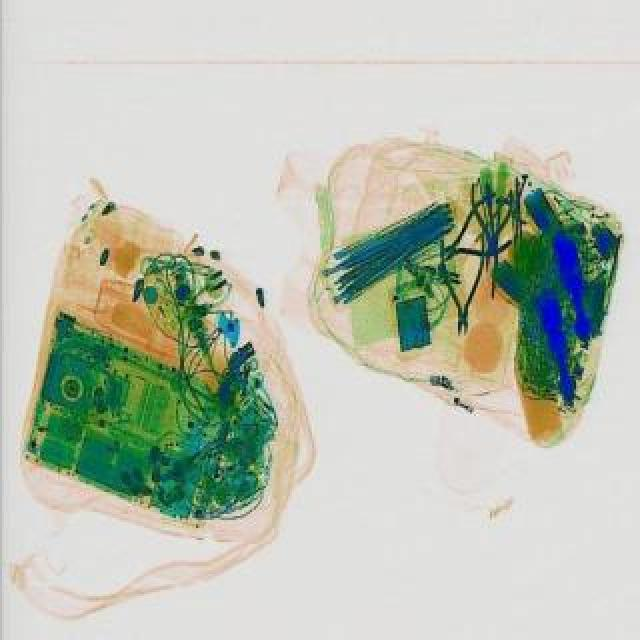wrench: (426, 192, 526, 278), (464, 178, 514, 298), (438, 234, 486, 334)
